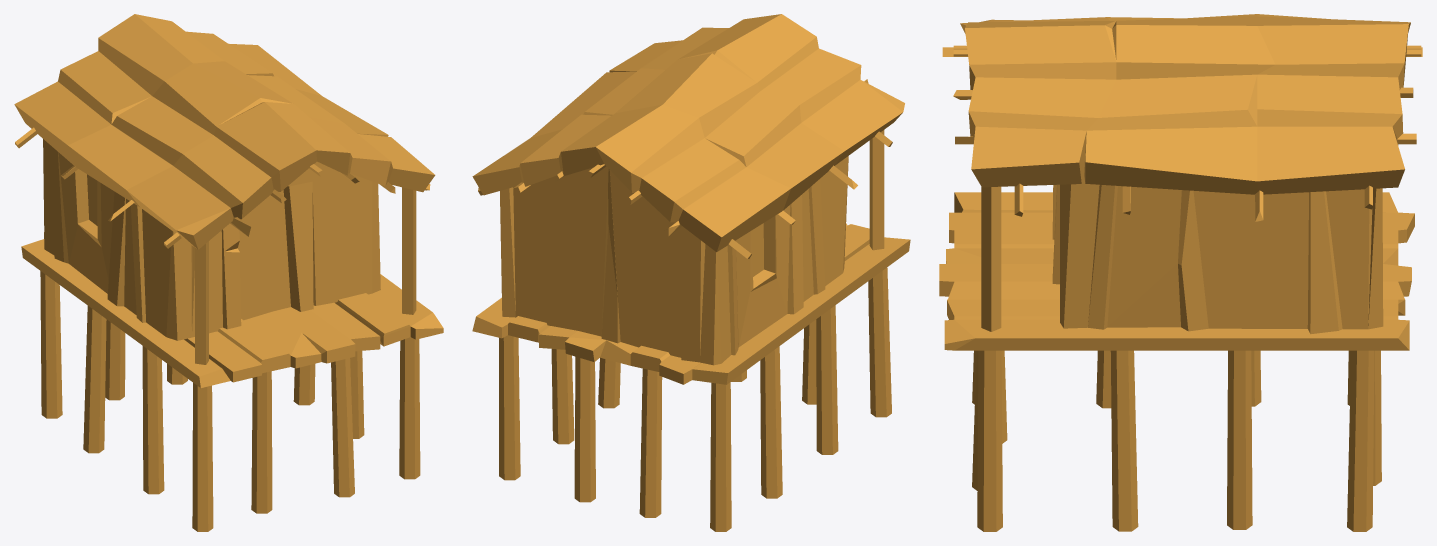
Rendered from pirate-hut-platform.fbx.
The picture shows the model from 3 angles, left to right: view 1: azimuth 30°, elevation 25°; view 2: azimuth 150°, elevation 25°; view 3: azimuth 270°, elevation 25°; orthographic projection. The views are drawn at different scales.
Parts seen in each view (by area): view 1: pirate-hut-platform; view 2: pirate-hut-platform; view 3: pirate-hut-platform.
Boxes of the visible parts, x1,y1,x2,y2 form: pirate-hut-platform: [14, 14, 443, 531]; pirate-hut-platform: [472, 14, 910, 531]; pirate-hut-platform: [939, 14, 1422, 531].
Bounding box in the file's own units: 4.78 × 5.91 × 5.83.
